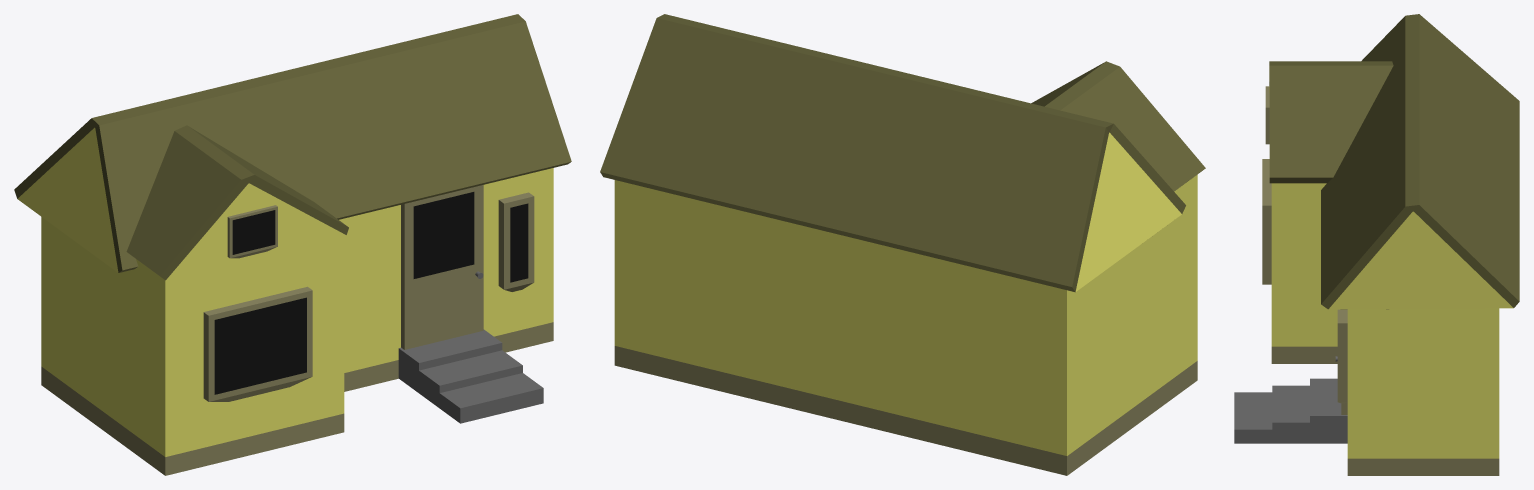
The model's file is casa.fbx.
The picture shows the model from 3 angles, left to right: view 1: azimuth 30°, elevation 25°; view 2: azimuth 150°, elevation 25°; view 3: azimuth 270°, elevation 25°; orthographic projection. The views are drawn at different scales.
Parts seen in each view (by area): view 1: casa; view 2: casa; view 3: casa.
Part boxes in pixels (left/top/right/bottom): casa: left=14, top=14, right=571, bottom=475; casa: left=600, top=14, right=1205, bottom=475; casa: left=1234, top=14, right=1519, bottom=475.
Bounding box in the file's own units: 514 × 325 × 308.
